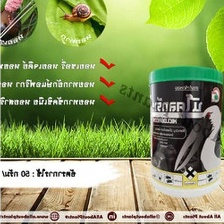insecticide: (145, 63, 224, 201)
